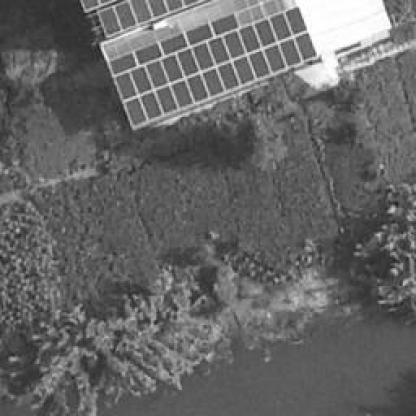solar-pv-panel: (113, 6, 318, 128), (108, 13, 241, 76), (98, 0, 205, 37), (81, 0, 115, 11)
